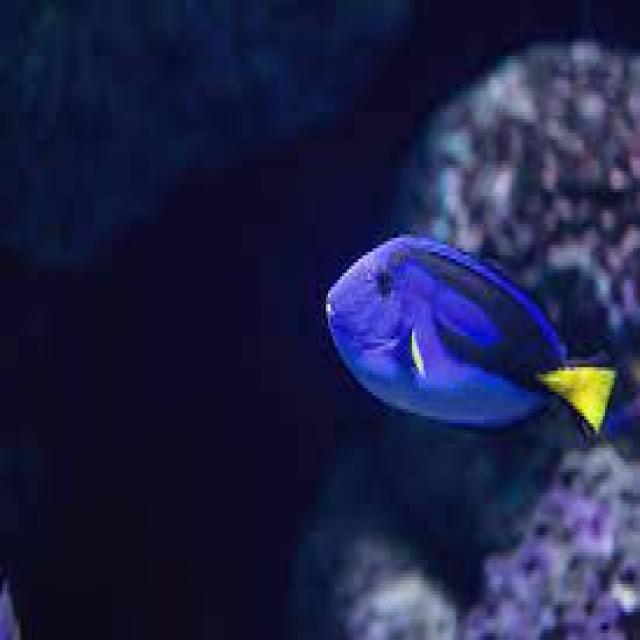BlueTang: (307, 194, 632, 475)
